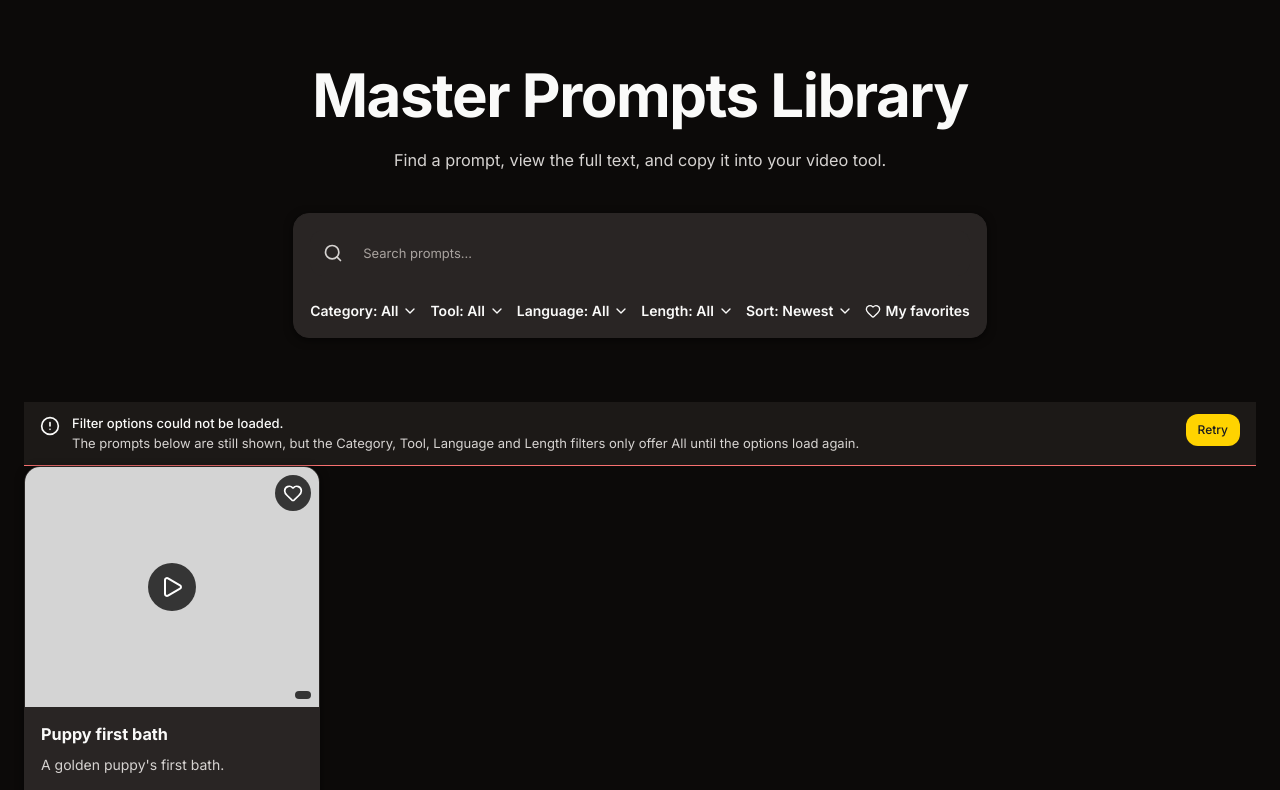
Test: PromptLibraryClient (real API wiring) › favourite failure shows a visible message while still reverting the heart
Click the button with test id "prompt-card-favourite" at (293, 493), box [275,475,311,511]
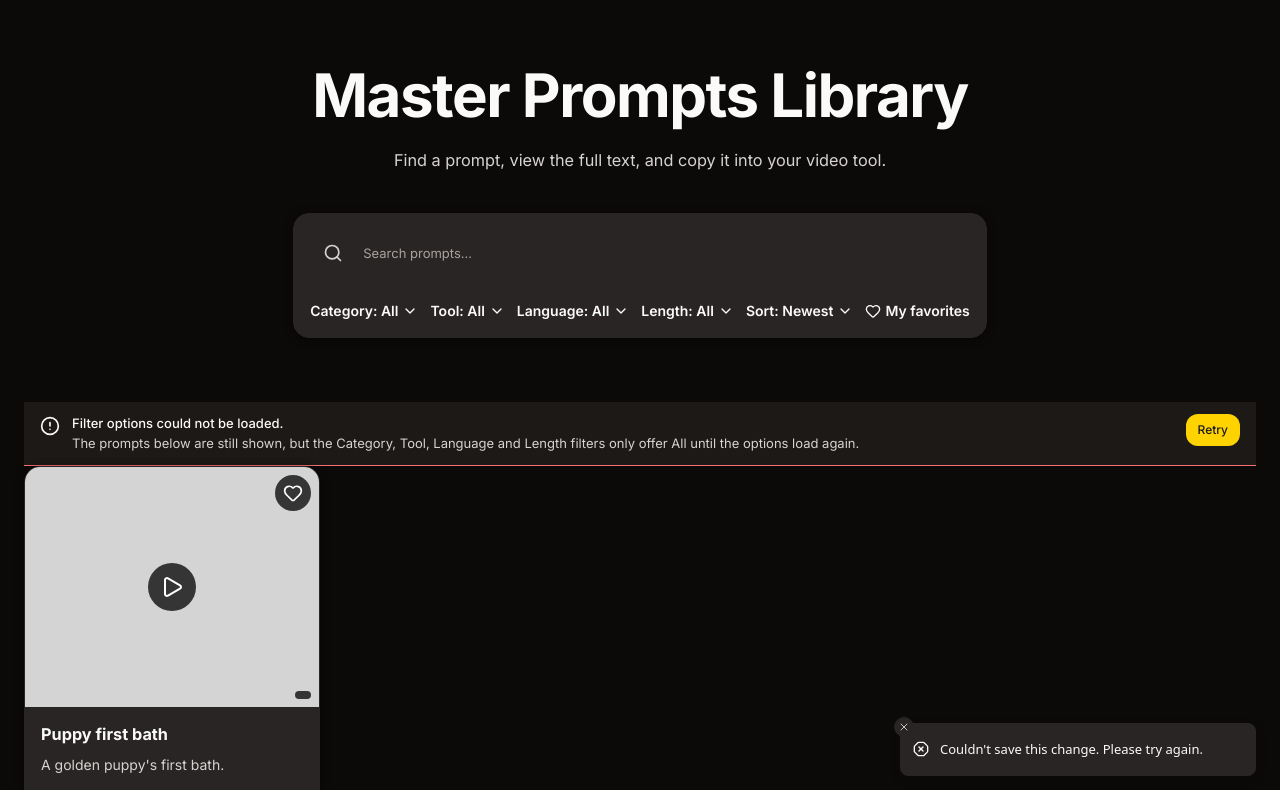
Now the text "Couldn't save this change. Please try again." is shown, box [940,740,1203,759]
